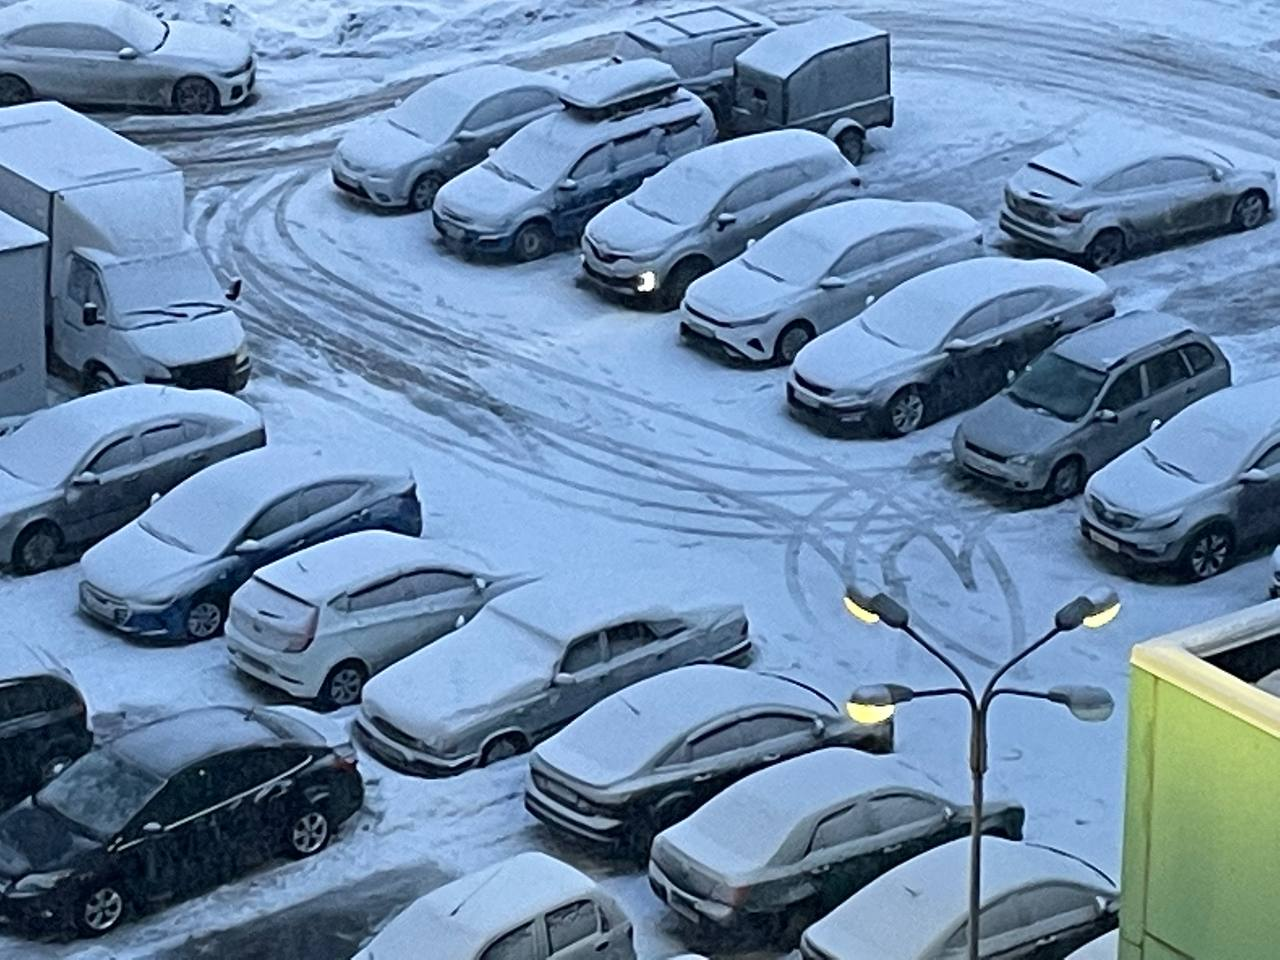Car: (354, 564, 753, 777), (0, 705, 365, 936), (646, 747, 1025, 947), (524, 663, 895, 865), (0, 101, 251, 393), (76, 445, 424, 642), (223, 525, 555, 712), (785, 257, 1116, 439), (431, 58, 719, 263), (952, 306, 1231, 502), (578, 128, 869, 308), (679, 197, 986, 366), (0, 384, 267, 575), (1078, 373, 1280, 582), (797, 834, 1122, 960), (999, 126, 1278, 269), (330, 65, 572, 211), (350, 852, 637, 960), (0, 0, 258, 115), (732, 12, 895, 167), (606, 2, 782, 142), (0, 627, 94, 811), (0, 210, 49, 419), (1064, 928, 1119, 960), (1267, 544, 1280, 600)
